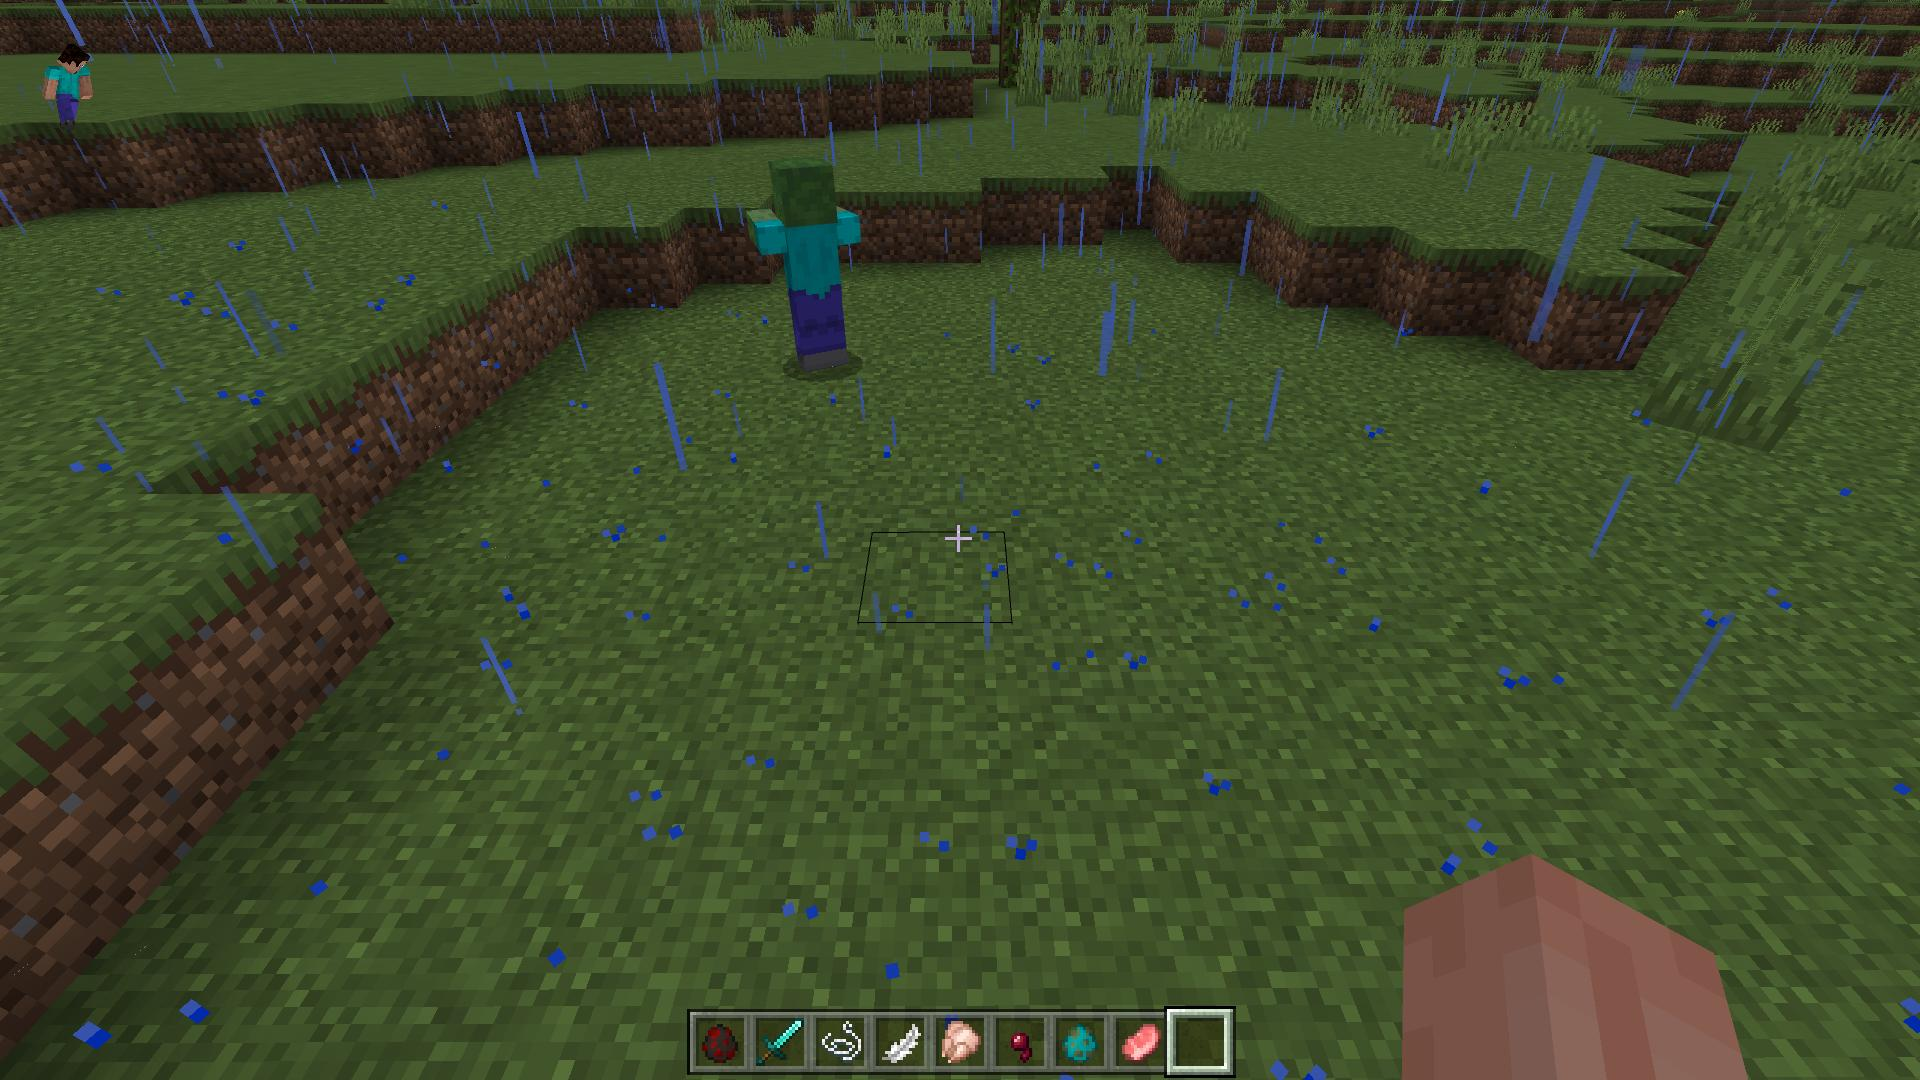zombie: (744, 165, 872, 377)
